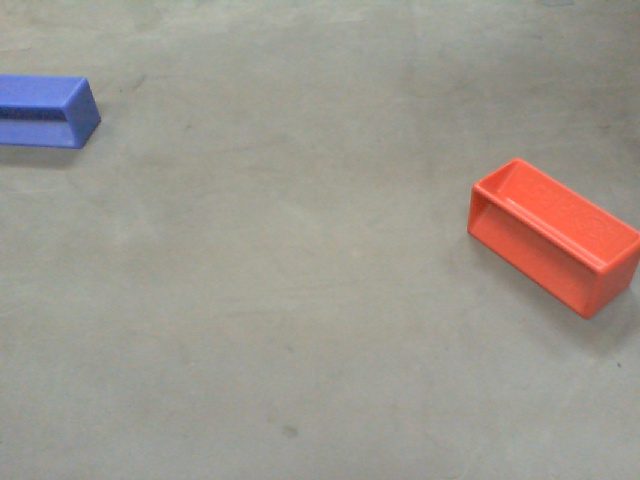BlueSample: (1, 76, 103, 155)
RedSample: (462, 152, 640, 322)
